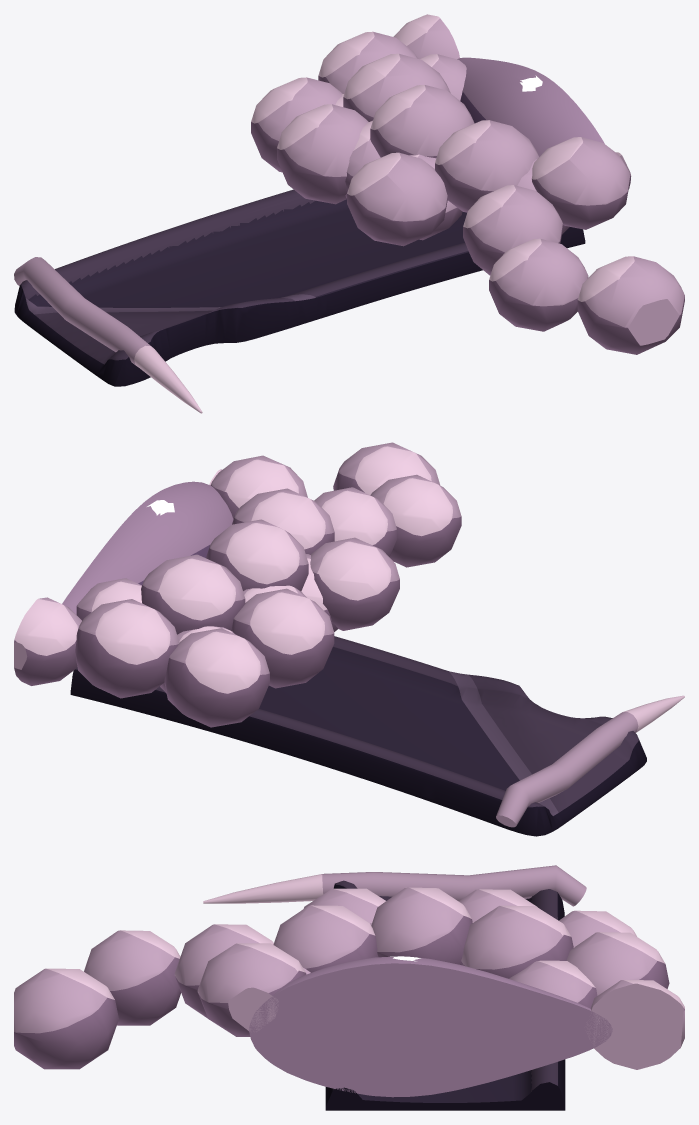
Rendered from grape_wing_l.glb.
3 renders of one model, top to bottom at view 1: azimuth 30°, elevation 25°; view 2: azimuth 150°, elevation 25°; view 3: azimuth 270°, elevation 25°, orthographic. The views are drawn at different scales.
Parts seen in each view (by area): view 1: grape_wing_l; view 2: grape_wing_l; view 3: grape_wing_l.
Boxes of the visible parts, x1,y1,x2,y2 form: grape_wing_l: [14, 14, 684, 413]; grape_wing_l: [14, 442, 684, 836]; grape_wing_l: [14, 865, 684, 1110].
Bounding box in the file's own units: 23.95 × 8.89 × 28.
